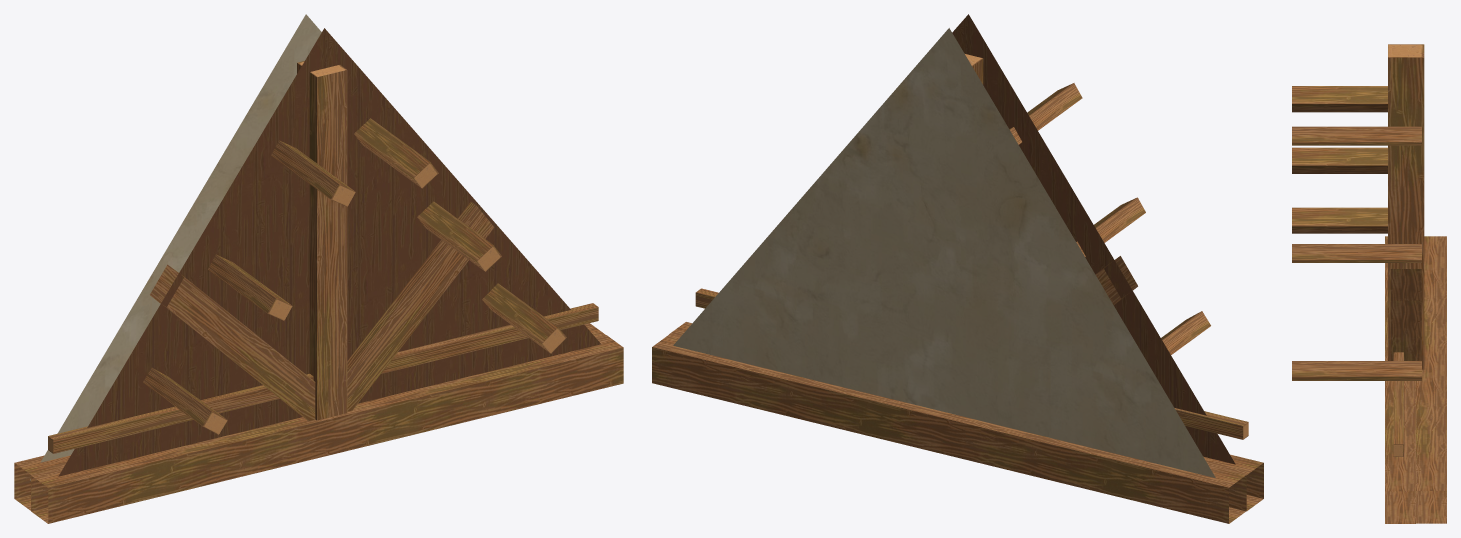
Rendered from Roof_Front_Wood4.gltf.
3 views of the same model, side by side, from view 1: azimuth 30°, elevation 25°; view 2: azimuth 150°, elevation 25°; view 3: azimuth 270°, elevation 25° (orthographic). The views are drawn at different scales.
Visible parts, largest first — view 1: Roof_Front_Wood4; view 2: Roof_Front_Wood4; view 3: Roof_Front_Wood4.
Part boxes in pixels (x1,y1,x2,y2): Roof_Front_Wood4: [14, 14, 623, 523]; Roof_Front_Wood4: [652, 14, 1263, 523]; Roof_Front_Wood4: [1292, 44, 1446, 523].
Size of the model in its own units: 4.4 by 3.07 by 1.13.
2 materials, 2 textured.
